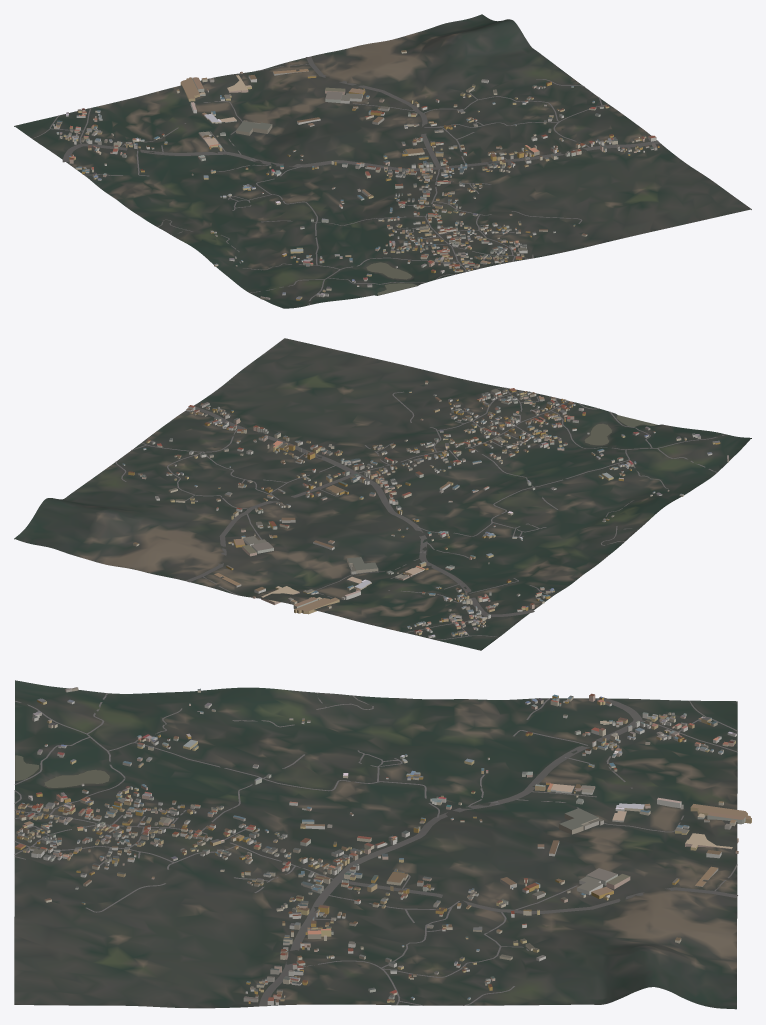
3 renders of one model, top to bottom at view 1: azimuth 30°, elevation 25°; view 2: azimuth 150°, elevation 25°; view 3: azimuth 270°, elevation 25°, orthographic. The views are drawn at different scales.
Visible parts, largest first — view 1: ground, buildings, roads, water; view 2: ground, buildings, roads, water; view 3: ground, buildings, roads, water.
Part boxes in pixels (bbox=[...]): ground: bbox=[14, 14, 751, 308]; buildings: bbox=[53, 50, 659, 300]; roads: bbox=[32, 56, 659, 304]; water: bbox=[366, 262, 417, 295]; ground: bbox=[14, 338, 751, 650]; buildings: bbox=[122, 380, 728, 638]; roads: bbox=[115, 387, 725, 640]; water: bbox=[584, 415, 656, 445]; ground: bbox=[14, 680, 737, 1009]; buildings: bbox=[15, 687, 751, 1005]; roads: bbox=[14, 692, 737, 1006]; water: bbox=[15, 755, 109, 787].
Size of the model in its own units: 1409 by 63.2 by 1432.
